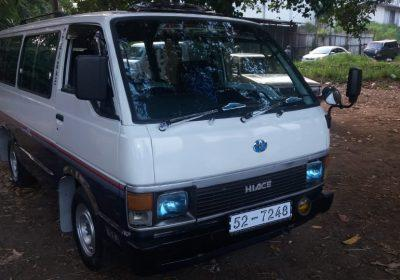car: (5, 20, 332, 256), (300, 45, 351, 65)
